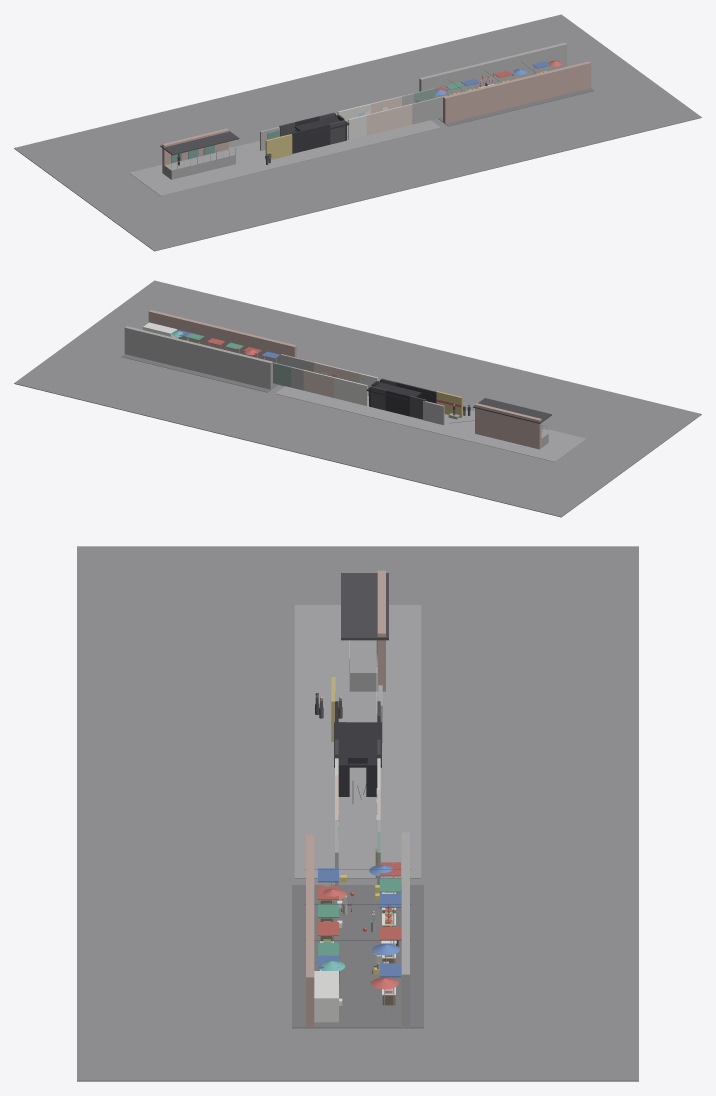
3 renders of one model, top to bottom at view 1: azimuth 30°, elevation 25°; view 2: azimuth 150°, elevation 25°; view 3: azimuth 270°, elevation 25°, orthographic. The views are drawn at different scales.
Parts seen in each view (by area): view 1: s01_ground, s01_floor, s03_bldg_R, s03_bldg_L, s01_walkway, s02_R_pink, s02_R_dark1, s01_roof, s01_building_wall, s02_R_gray, s03_road, s01_wall_yellow (+2 smaller); view 2: s01_ground, s03_bldg_L, s01_floor, s03_bldg_R, s01_building_wall, s02_L_white, s01_roof, s02_L_pink, s03_road, s02_L_dark2, s02_R_pink, s01_wall_right (+3 smaller); view 3: s01_ground, s01_floor, s03_road, s01_roof, s02_ceiling, s03_bldg_L, s03_bldg_R, van_body, s01_building_wall, s01_walkway.
Boxes of the visible parts, bbox=[...] form: s01_ground: bbox=[14, 14, 701, 251]; s01_floor: bbox=[129, 120, 440, 195]; s03_bldg_R: bbox=[443, 61, 591, 123]; s03_bldg_L: bbox=[419, 42, 567, 97]; s01_walkway: bbox=[164, 150, 235, 179]; s02_R_pink: bbox=[366, 104, 412, 135]; s02_R_dark1: bbox=[290, 124, 330, 153]; s01_roof: bbox=[160, 131, 239, 155]; s01_building_wall: bbox=[162, 128, 228, 174]; s02_R_gray: bbox=[412, 96, 445, 124]; s03_road: bbox=[438, 88, 594, 126]; s01_wall_yellow: bbox=[265, 134, 292, 160]; s01_ground: bbox=[14, 280, 701, 517]; s03_bldg_L: bbox=[124, 326, 272, 389]; s01_floor: bbox=[275, 386, 586, 461]; s03_bldg_R: bbox=[148, 310, 296, 363]; s01_building_wall: bbox=[475, 403, 541, 449]; s02_L_white: bbox=[334, 377, 367, 405]; s01_roof: bbox=[473, 398, 551, 423]; s02_L_pink: bbox=[303, 370, 334, 397]; s03_road: bbox=[121, 354, 277, 392]; s02_L_dark2: bbox=[385, 390, 410, 416]; s02_R_pink: bbox=[314, 362, 359, 383]; s01_wall_right: bbox=[423, 401, 444, 425]; s01_ground: bbox=[77, 546, 638, 1081]; s01_floor: bbox=[294, 605, 421, 878]; s03_road: bbox=[292, 885, 423, 1028]; s01_roof: bbox=[341, 573, 388, 640]; s02_ceiling: bbox=[334, 722, 381, 767]; s03_bldg_L: bbox=[401, 832, 409, 1027]; s03_bldg_R: bbox=[306, 834, 314, 1027]; van_body: bbox=[314, 971, 338, 1022]; s01_building_wall: bbox=[377, 570, 385, 691]; s01_walkway: bbox=[349, 640, 377, 674].
Size of the model in its own units: 90 by 4.71 by 40.
